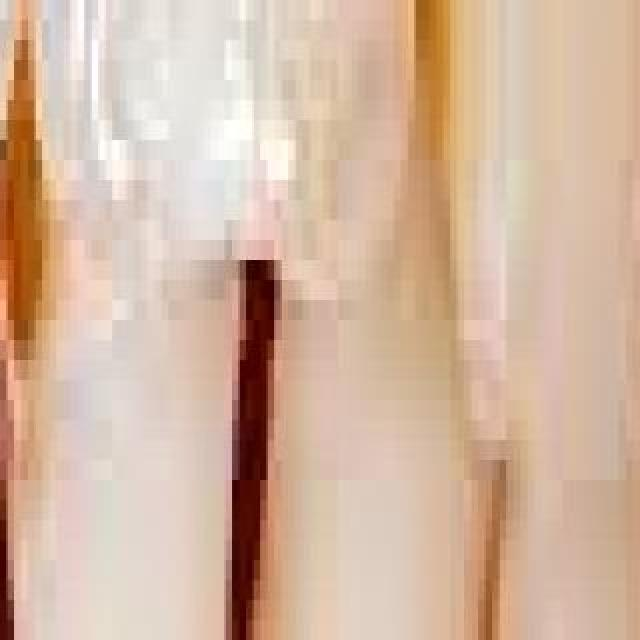spacing: (172, 244, 304, 640), (0, 160, 60, 640), (0, 0, 124, 168)
